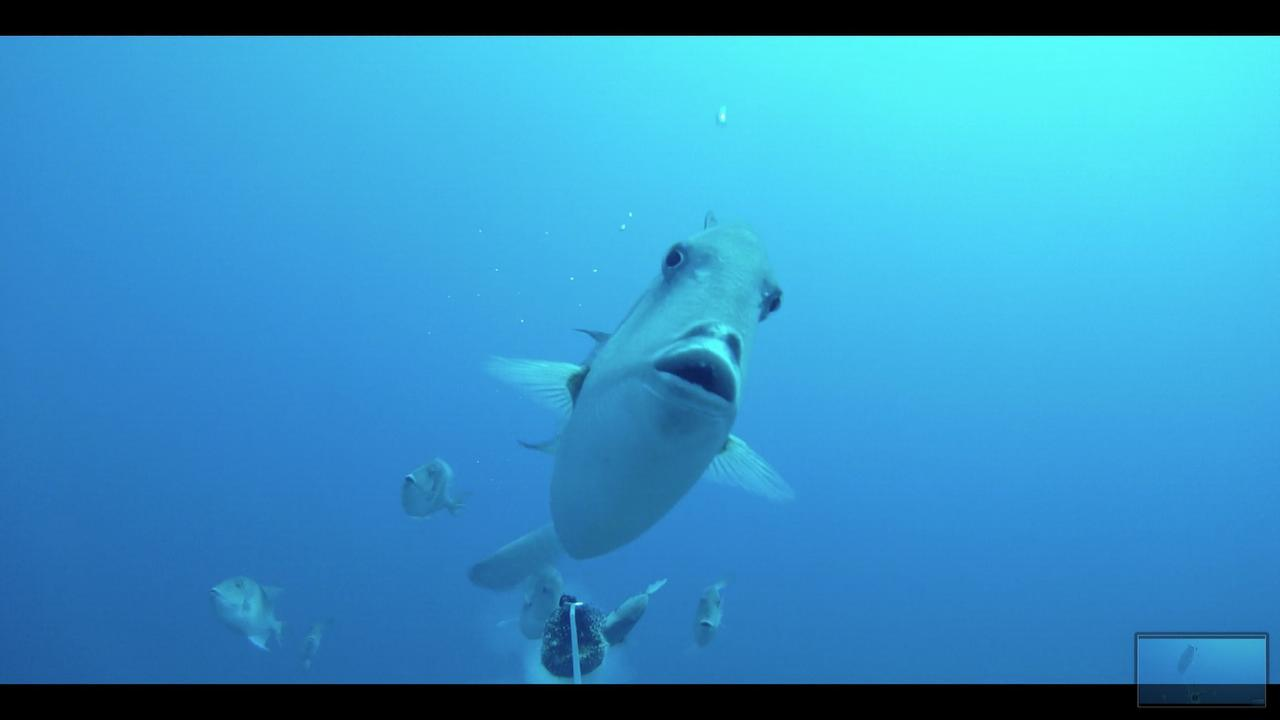balistes: (465, 191, 794, 594), (207, 564, 290, 654), (394, 450, 478, 523), (600, 575, 671, 655), (494, 562, 565, 642), (687, 565, 738, 649)
